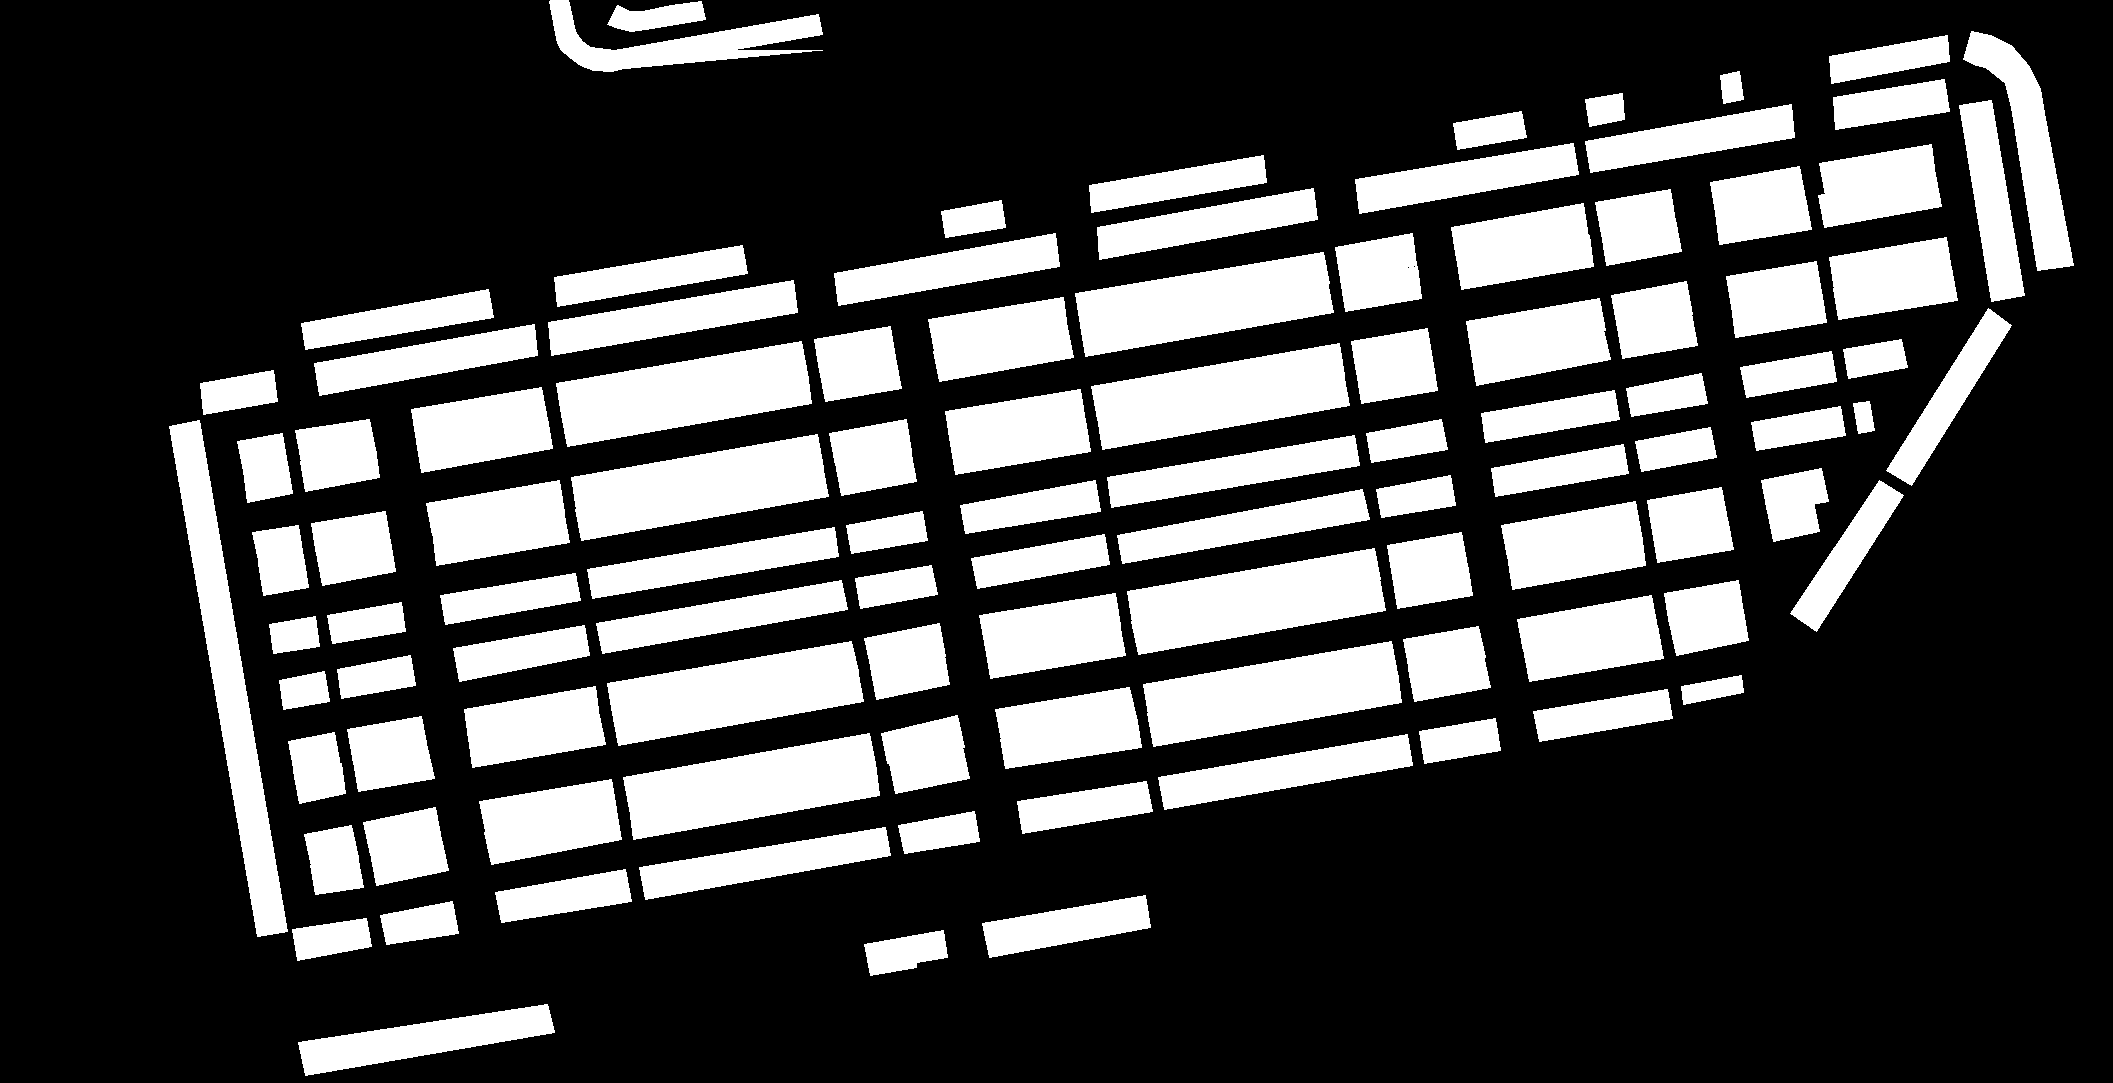parkingspot: (168, 420, 287, 937), (1962, 30, 2073, 269), (1887, 308, 2011, 485), (1157, 734, 1411, 809), (1131, 577, 1385, 653), (570, 434, 823, 510), (623, 734, 876, 809), (1080, 280, 1333, 356), (1091, 343, 1344, 419), (1097, 373, 1349, 449), (550, 0, 822, 70), (612, 669, 863, 745), (628, 763, 878, 838), (575, 466, 829, 540), (1144, 641, 1398, 716), (1148, 671, 1400, 746), (1127, 548, 1380, 623), (1117, 489, 1369, 564), (561, 372, 811, 446), (1074, 251, 1329, 325), (548, 280, 797, 355), (557, 341, 807, 414), (597, 580, 847, 653), (608, 641, 858, 714), (1108, 435, 1359, 507), (298, 1004, 554, 1075), (639, 827, 889, 899), (587, 528, 838, 598), (1790, 479, 1903, 631), (834, 233, 1059, 305), (313, 325, 537, 395), (1097, 188, 1318, 258), (1355, 144, 1579, 213), (1585, 104, 1794, 173), (1958, 99, 2025, 301), (554, 245, 747, 307), (301, 289, 493, 349), (982, 895, 1150, 957), (1090, 155, 1266, 211), (1523, 624, 1663, 681), (1471, 329, 1610, 385), (1507, 532, 1645, 588), (979, 593, 1120, 648), (985, 623, 1126, 678), (1516, 595, 1657, 651), (950, 419, 1090, 474), (1501, 501, 1641, 557), (453, 624, 588, 681), (994, 687, 1137, 740), (425, 479, 563, 535), (1467, 298, 1605, 354), (945, 390, 1086, 443), (432, 510, 569, 565), (1451, 203, 1588, 258), (928, 297, 1068, 351), (934, 327, 1073, 381), (960, 479, 1099, 533), (483, 809, 621, 863), (971, 535, 1109, 588), (1000, 716, 1141, 768), (416, 419, 552, 472), (1456, 235, 1592, 289), (412, 387, 547, 441), (1480, 390, 1619, 442), (494, 869, 631, 921), (479, 779, 616, 832), (1492, 443, 1628, 496), (441, 573, 580, 624), (1533, 689, 1672, 740), (464, 687, 599, 739), (1016, 780, 1152, 833), (468, 716, 605, 767), (1833, 267, 1957, 319), (1829, 238, 1951, 290), (1817, 174, 1940, 227), (1819, 144, 1935, 195), (1829, 35, 1949, 83), (1833, 79, 1949, 128), (1730, 290, 1826, 337), (1715, 198, 1811, 245), (1710, 166, 1805, 213), (1726, 261, 1822, 307), (1740, 351, 1835, 396), (1751, 406, 1845, 450), (829, 419, 911, 466), (881, 716, 964, 763), (865, 930, 947, 975), (347, 716, 427, 763), (865, 623, 945, 670), (889, 746, 969, 793), (1612, 280, 1692, 327), (363, 807, 441, 855), (813, 326, 895, 372), (1403, 626, 1485, 671), (1409, 655, 1490, 700), (1356, 358, 1438, 403), (1351, 327, 1432, 373), (836, 449, 916, 495), (1387, 532, 1467, 577), (1335, 233, 1416, 279), (1601, 220, 1681, 265), (370, 838, 447, 885), (819, 356, 900, 401), (1418, 718, 1500, 763), (1652, 518, 1733, 562), (1635, 427, 1717, 471), (1340, 267, 1421, 311), (354, 747, 434, 792), (1392, 564, 1472, 608), (1648, 488, 1728, 532), (1617, 314, 1697, 358), (1595, 189, 1675, 233), (855, 565, 936, 608), (1366, 419, 1447, 461), (1625, 373, 1707, 416), (311, 511, 389, 555), (870, 655, 949, 699), (1670, 611, 1748, 655), (1664, 580, 1743, 624), (296, 419, 376, 461), (200, 370, 278, 414), (898, 811, 979, 852), (300, 448, 378, 490), (316, 541, 395, 584), (380, 901, 459, 943), (291, 919, 372, 960), (847, 511, 927, 553), (1376, 475, 1456, 517), (337, 655, 414, 698), (327, 602, 405, 642), (1761, 468, 1829, 512), (1453, 111, 1526, 149), (608, 1, 704, 30), (1842, 338, 1907, 378), (940, 200, 1005, 238), (304, 825, 358, 866), (289, 732, 340, 774), (293, 763, 345, 803), (1766, 501, 1819, 541), (309, 855, 363, 894), (251, 525, 302, 565), (258, 555, 308, 595), (238, 432, 287, 471), (243, 463, 291, 501), (279, 671, 329, 709), (269, 616, 319, 653), (1681, 675, 1743, 705), (1585, 93, 1624, 126), (1719, 70, 1743, 104), (1853, 401, 1874, 432)
